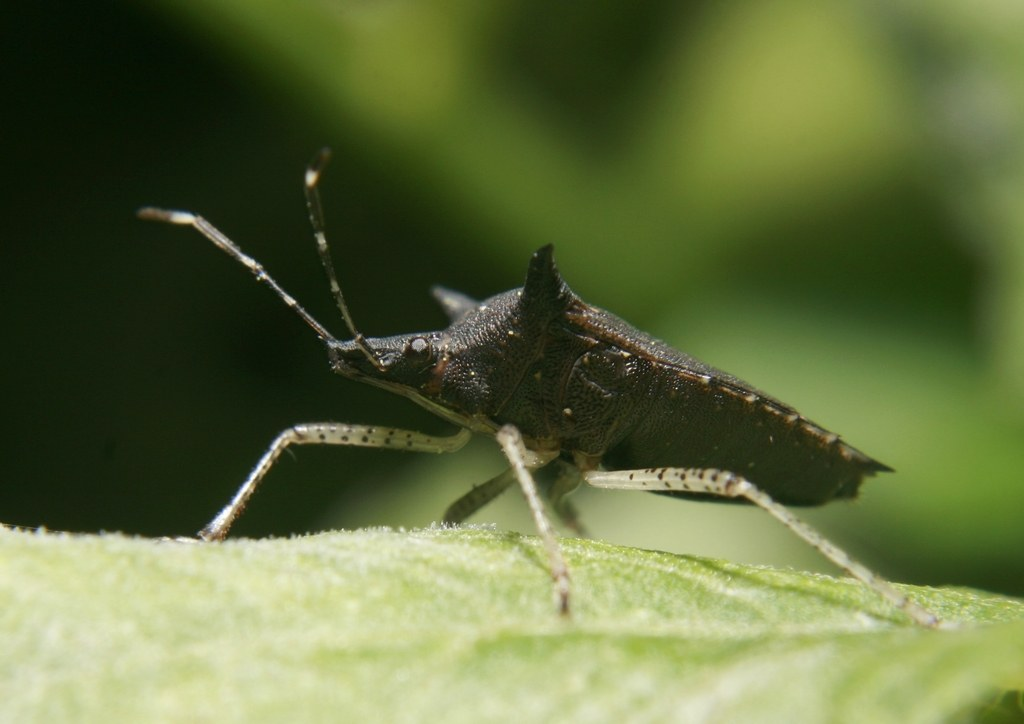insect: (135, 150, 954, 627)
